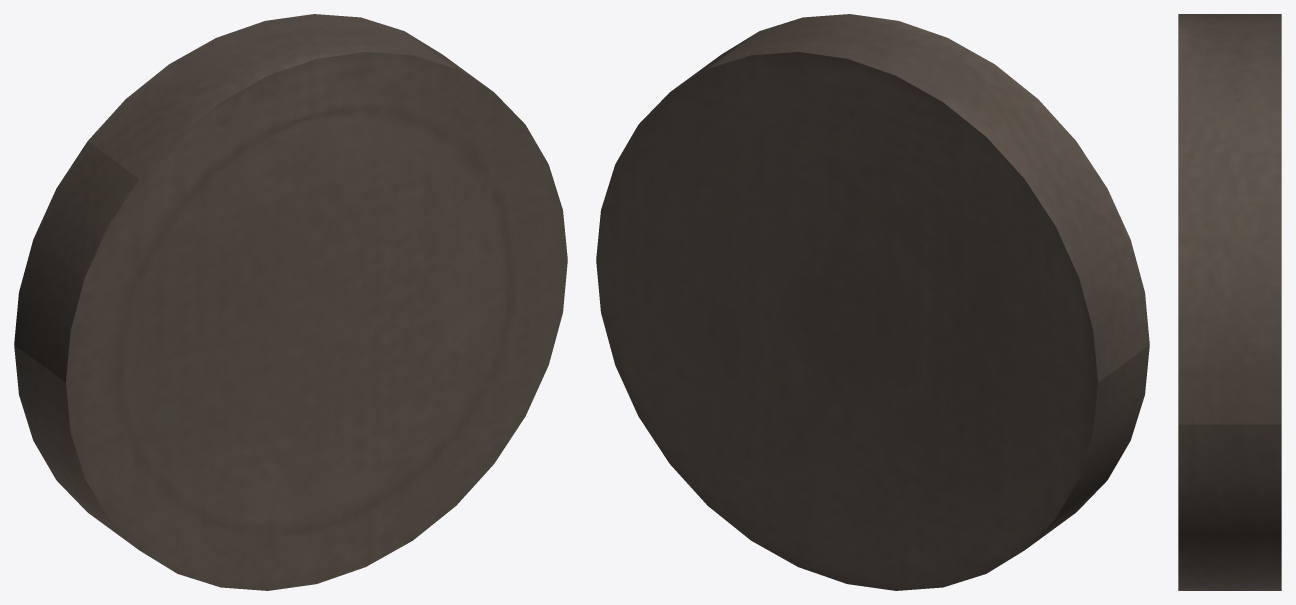
File: temp_dial__dial_skirt.glb
3 renders of one model, left to right at view 1: azimuth 30°, elevation 25°; view 2: azimuth 150°, elevation 25°; view 3: azimuth 270°, elevation 25°, orthographic.
Visible parts, largest first — view 1: geometry_0; view 2: geometry_0; view 3: geometry_0.
Part boxes in pixels (x1,y1,x2,y2): geometry_0: (14,14,567,590); geometry_0: (596,14,1149,590); geometry_0: (1178,14,1281,590).
Bounding box in the file's own units: 0.056 × 0.056 × 0.01.
Materials: 1 (1 with a texture image).
